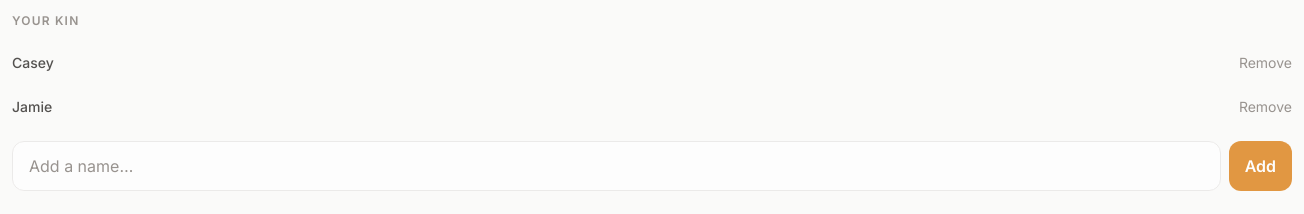
Test case: KinList › rename › re-sorts the list after renaming
This screenshot has width=1304, height=214.
Click the button "Casey". click: (33, 62)
box: 12,47 -> 1227,79
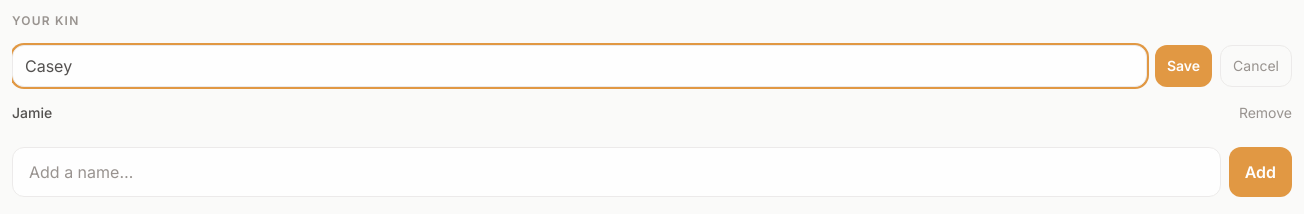
Replace the text in the field showing "Casey" with "Zara". click: (579, 66)
box: 12,45 -> 1147,87
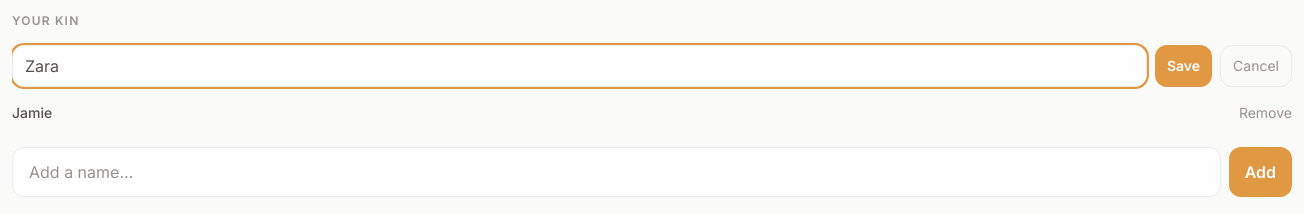
Click the button "Save". click: (1184, 66)
box: 1155,45 -> 1212,87
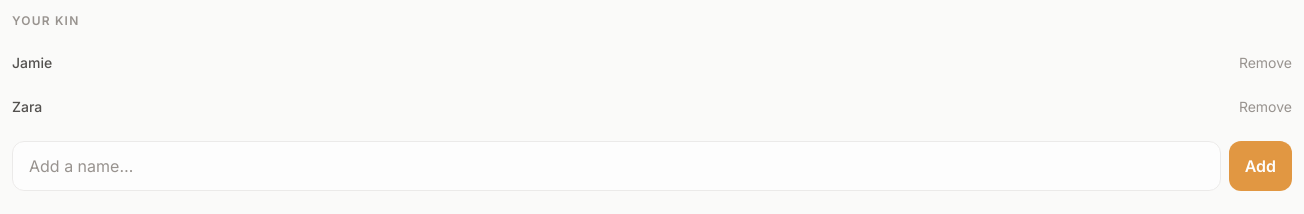
Expected: the list item "Jamie Remove" is shown, 12,45 -> 1292,81
Result: the list item "Zara Remove" is shown at 12,89 -> 1292,125
